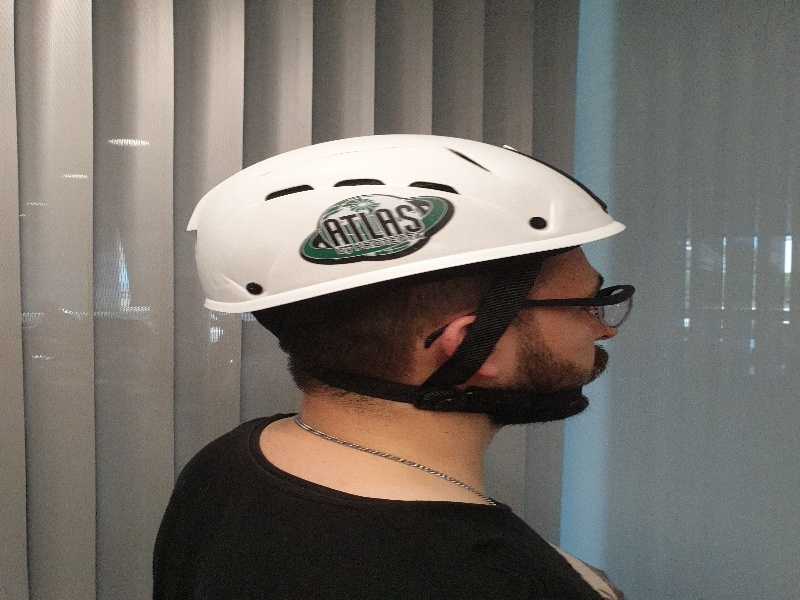baret: (195, 135, 627, 317)
gozluk: (515, 278, 639, 332)
